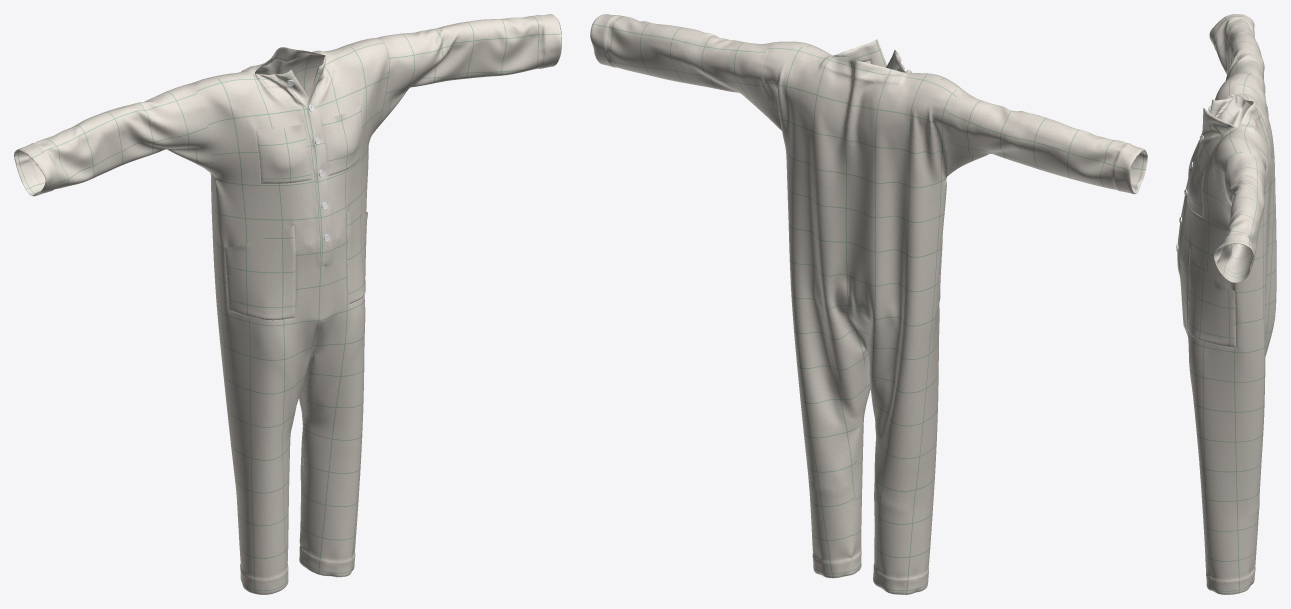
File: openpattern-tuta.glb
The picture shows the model from 3 angles, left to right: view 1: azimuth 30°, elevation 25°; view 2: azimuth 150°, elevation 25°; view 3: azimuth 270°, elevation 25°; orthographic projection. The views are drawn at different scales.
Parts seen in each view (by area): view 1: Pattern_4623574, RHS Sleeve_1, LHS Sleeve_1, RHS Bottom Pocket_1, RHS Top Pocket_1, LHS Top Pocket_1, LHS Bottom Pocket_1; view 2: Pattern_4623574, RHS Sleeve_1, LHS Sleeve_1; view 3: Pattern_4623574, LHS Sleeve_1, LHS Bottom Pocket_1, RHS Sleeve_1, LHS Top Pocket_1, Pattern_3680030, LHS Arm Gusset_1.
Boxes of the visible parts, x1,y1,x2,y2 form: Pattern_4623574: (186,38,389,594); RHS Sleeve_1: (14,84,211,196); LHS Sleeve_1: (377,14,561,103); RHS Bottom Pocket_1: (225,225,295,320); RHS Top Pocket_1: (255,123,311,183); LHS Top Pocket_1: (321,104,362,176); LHS Bottom Pocket_1: (347,211,367,304); Pattern_4623574: (761,41,965,594); RHS Sleeve_1: (947,92,1147,194); LHS Sleeve_1: (590,14,773,105); Pattern_4623574: (1177,72,1276,594); LHS Sleeve_1: (1213,152,1265,282); LHS Bottom Pocket_1: (1188,247,1235,347); RHS Sleeve_1: (1209,14,1265,122); LHS Top Pocket_1: (1187,154,1205,218); Pattern_3680030: (1211,97,1233,116); LHS Arm Gusset_1: (1227,108,1245,127).
Size of the model in its own units: 1.67 by 1.55 by 0.3015.
Materials: 20 (19 with a texture image).
